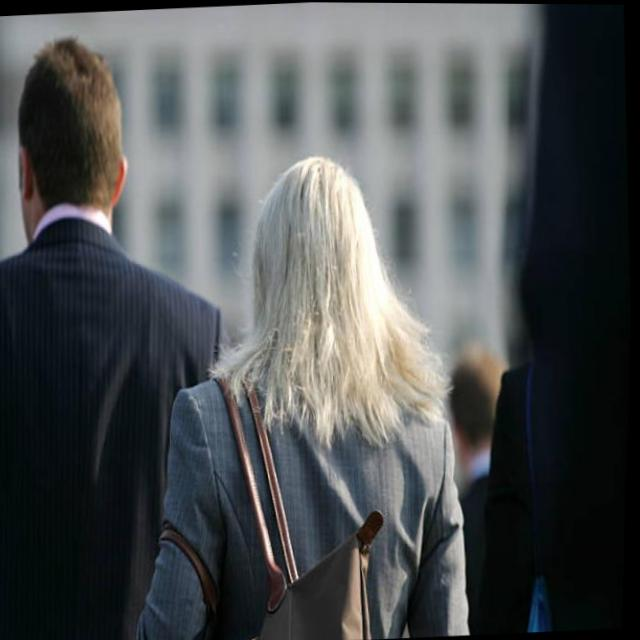no helmet: (247, 156, 389, 389), (11, 35, 140, 267)
